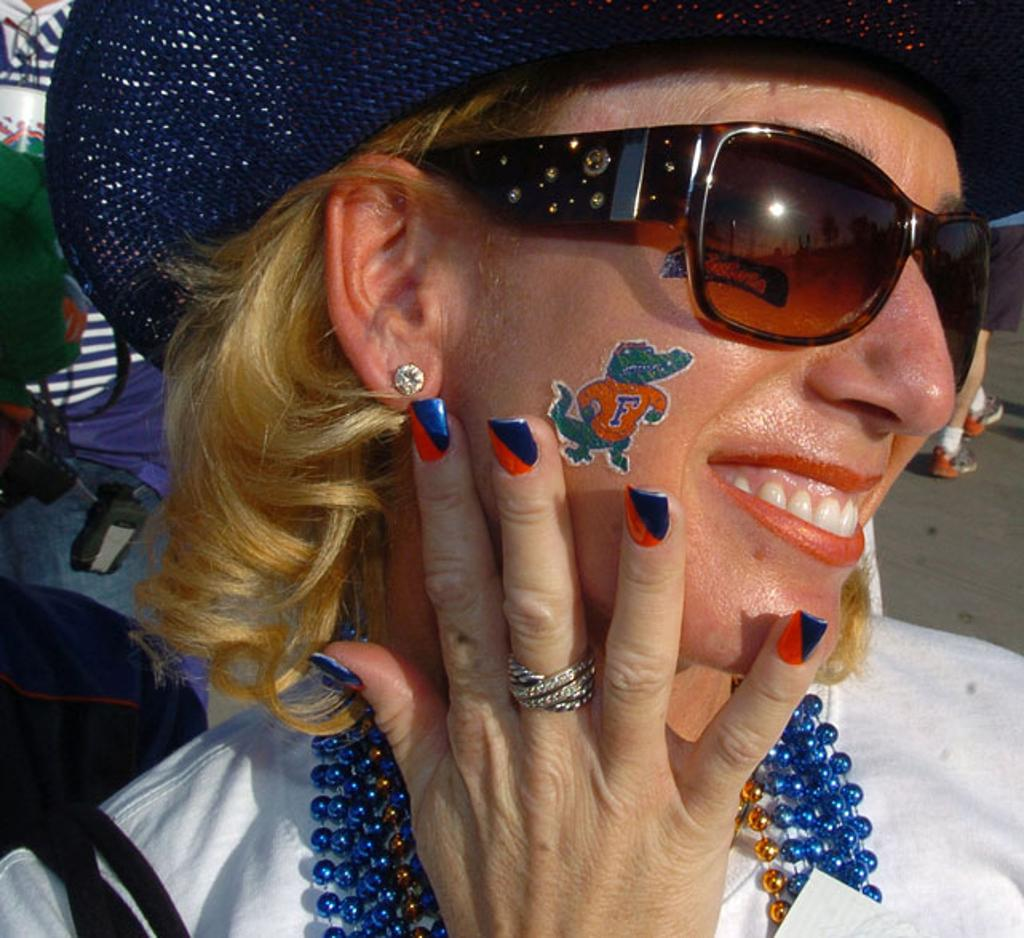face: (454, 26, 956, 684)
